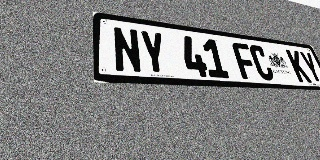1: (200, 38, 229, 78)
4: (179, 35, 209, 77)
C: (248, 44, 276, 81)
F: (231, 42, 260, 80)
K: (285, 49, 312, 83)
N: (112, 26, 143, 74)
Y: (139, 30, 169, 75), (298, 51, 320, 83)
